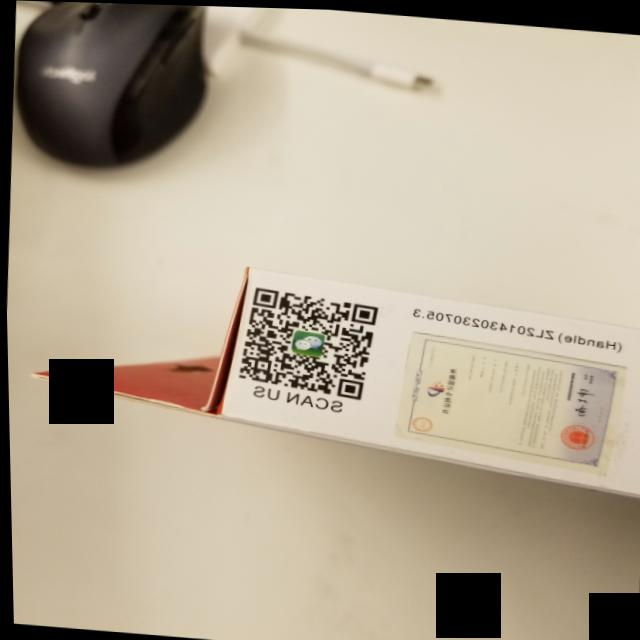QR_CODE: (203, 274, 390, 421)
